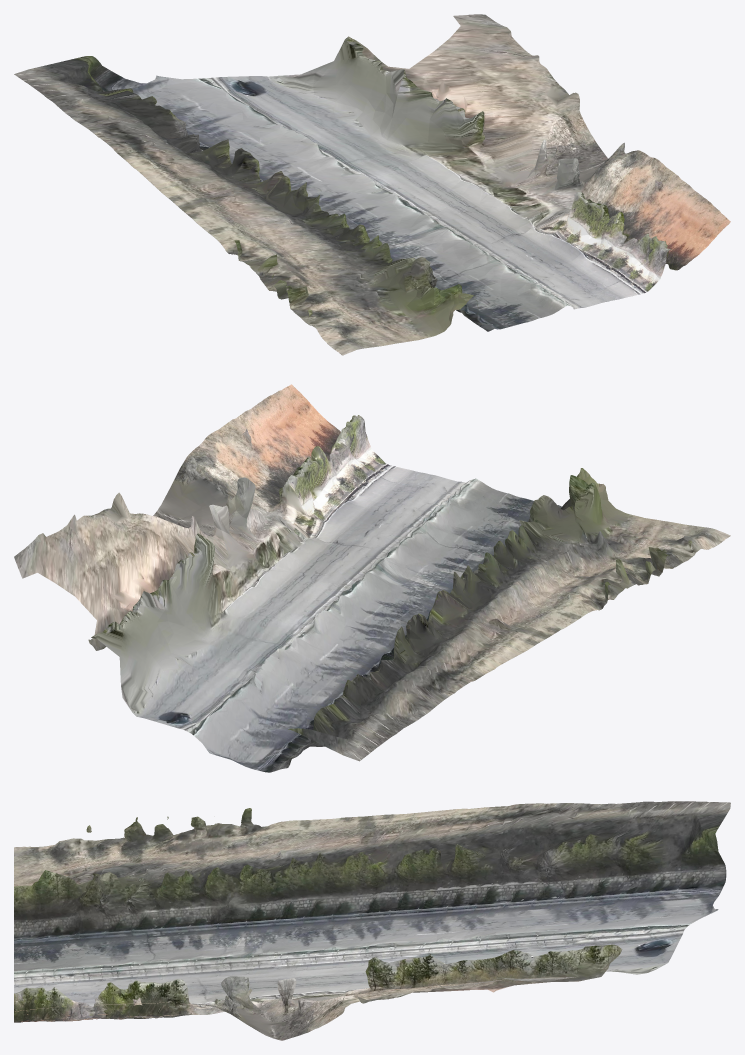
Rendered from Block_L20_99.glb.
3 renders of one model, top to bottom at view 1: azimuth 30°, elevation 25°; view 2: azimuth 150°, elevation 25°; view 3: azimuth 270°, elevation 25°, orthographic. The views are drawn at different scales.
Parts seen in each view (by area): view 1: rtc; view 2: rtc; view 3: rtc.
Part boxes in pixels (left/top/right/bottom): rtc: left=14, top=14, right=730, bottom=355; rtc: left=14, top=384, right=730, bottom=772; rtc: left=14, top=801, right=730, bottom=1040.
Bounding box in the file's own units: 68.32 × 13.79 × 100.
Materials: 9 (9 with a texture image).
